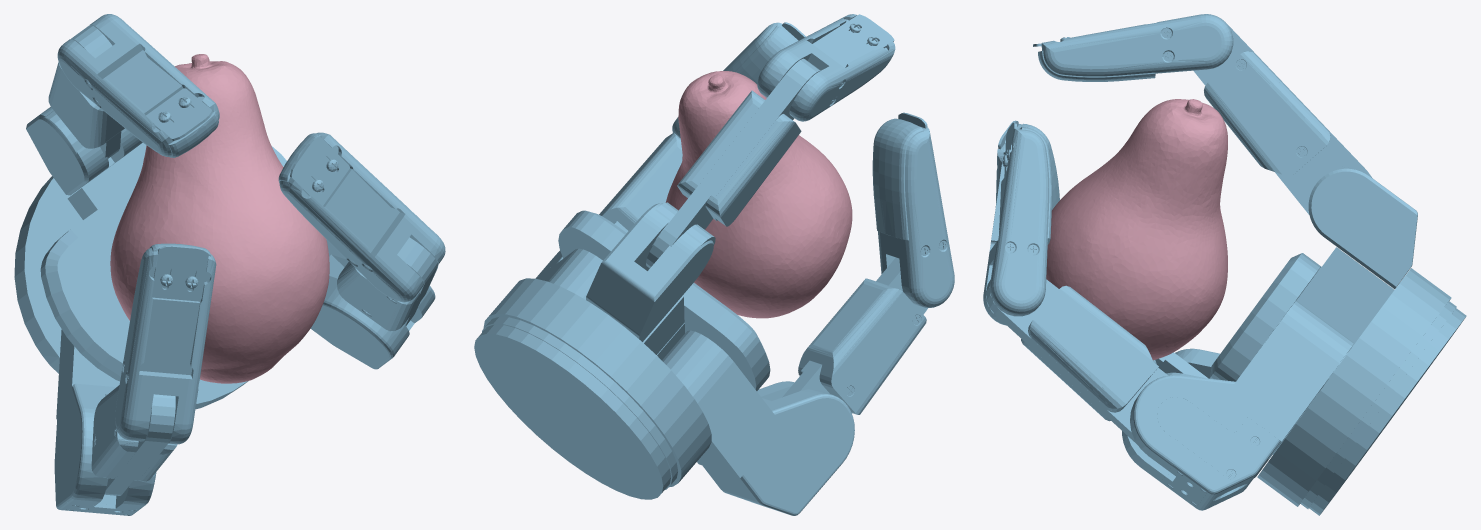
3 views of the same model, side by side, from view 1: azimuth 30°, elevation 25°; view 2: azimuth 150°, elevation 25°; view 3: azimuth 270°, elevation 25° (orthographic). The views are drawn at different scales.
Visible parts, largest first — view 1: world, pear.stl; view 2: world, pear.stl; view 3: world, pear.stl.
Boxes of the visible parts, x1,y1,x2,y2 form: world: [14, 14, 445, 515]; pear.stl: [110, 54, 329, 383]; world: [474, 14, 954, 515]; pear.stl: [665, 71, 852, 318]; world: [983, 14, 1466, 515]; pear.stl: [1046, 99, 1227, 360].
Bounding box in the file's own units: 0.1447 × 0.1756 × 0.1654.
